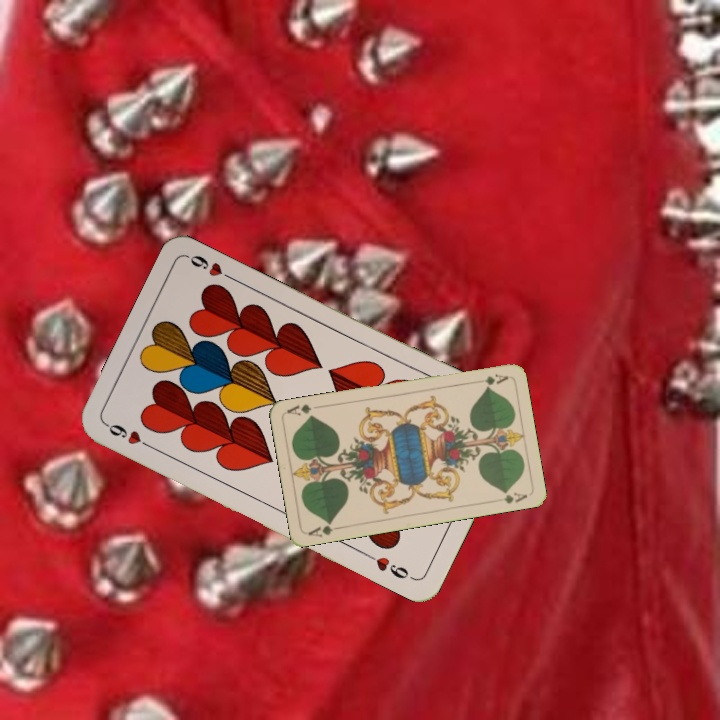GA: (304, 517, 345, 539), (470, 370, 510, 388)
H9: (102, 419, 157, 453)
